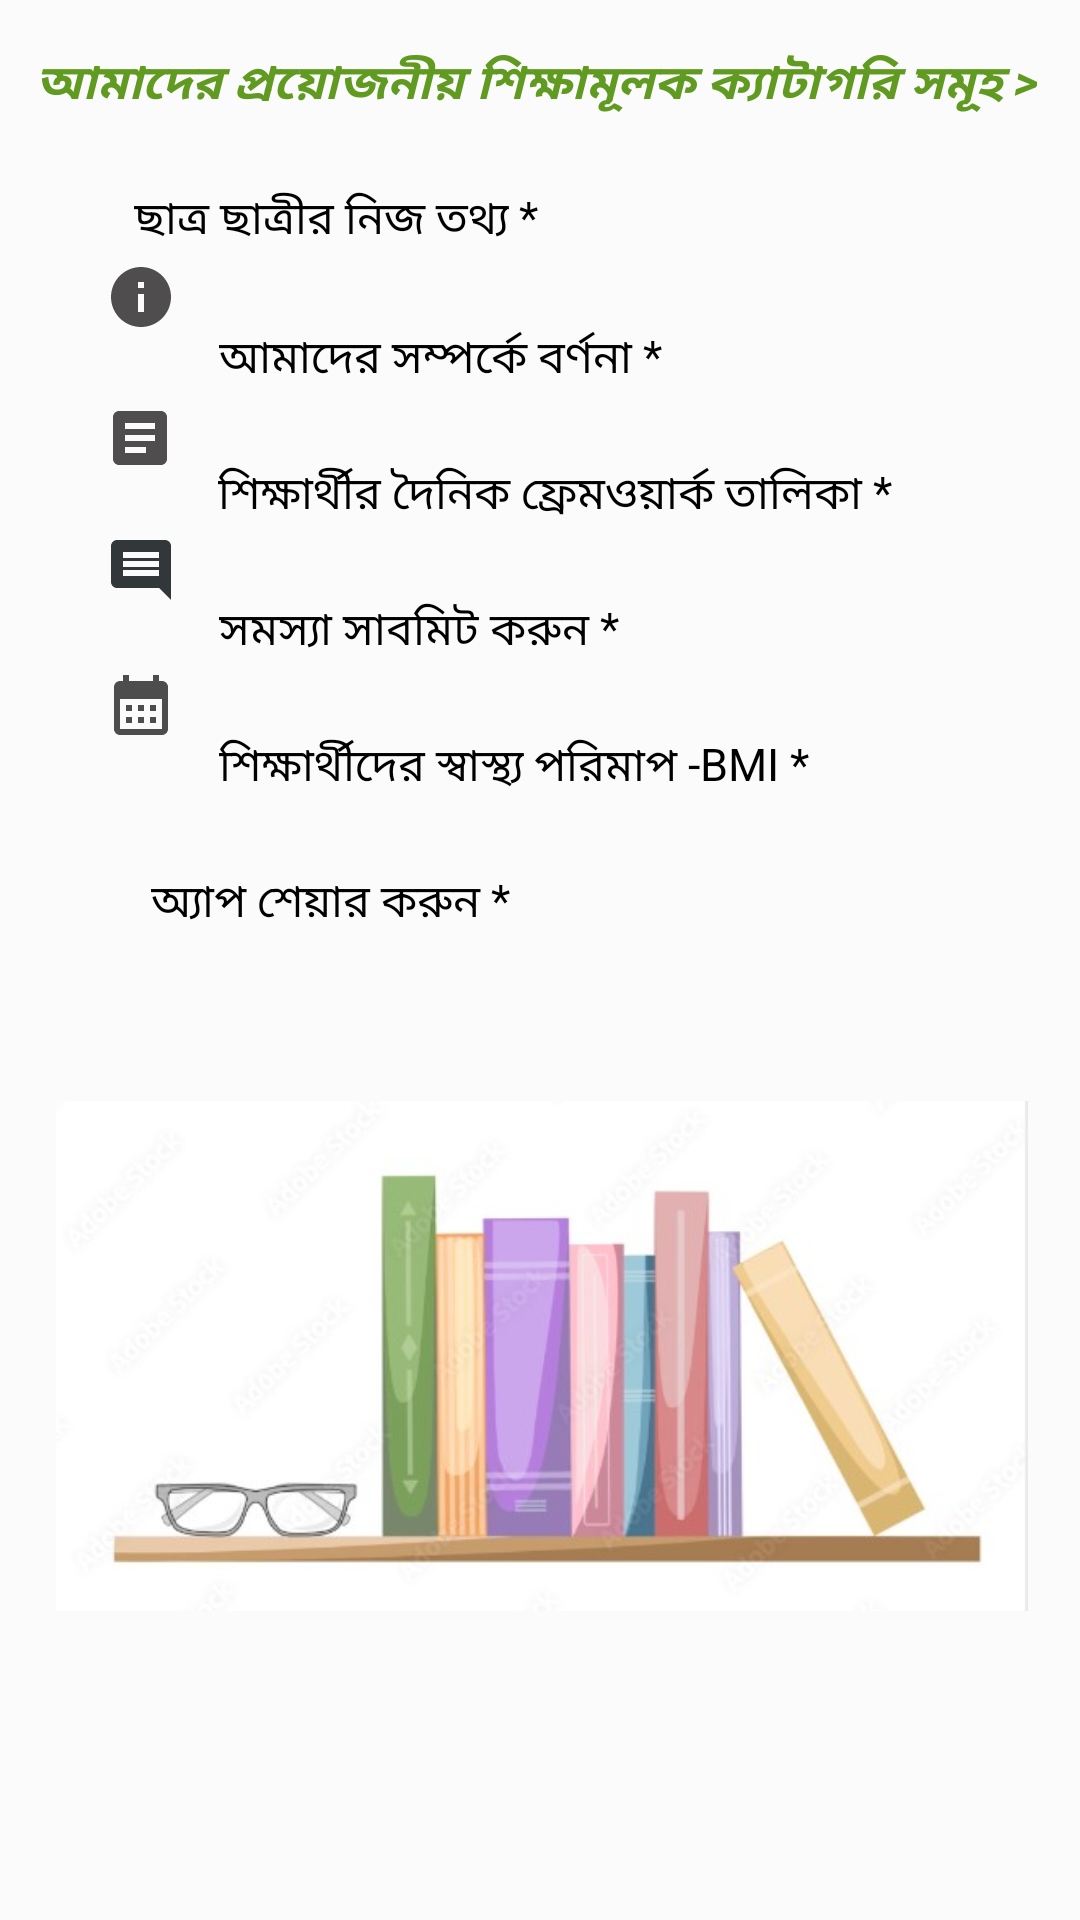

Icon bounding boxes for this 1080 x 1920 phone screenshot, format [x1, y1, x2, y2]:
abut us: [111, 267, 171, 327]
comment: [111, 540, 171, 600]
ruleslist: [113, 411, 167, 465]
user calendar: [114, 675, 168, 735]
